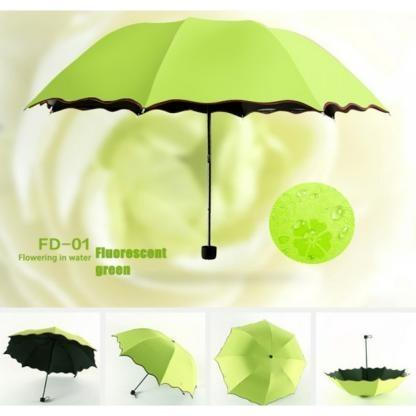Umbrella: (4, 0, 393, 271), (199, 314, 317, 412), (322, 322, 416, 416), (106, 314, 203, 405), (6, 314, 100, 406)
